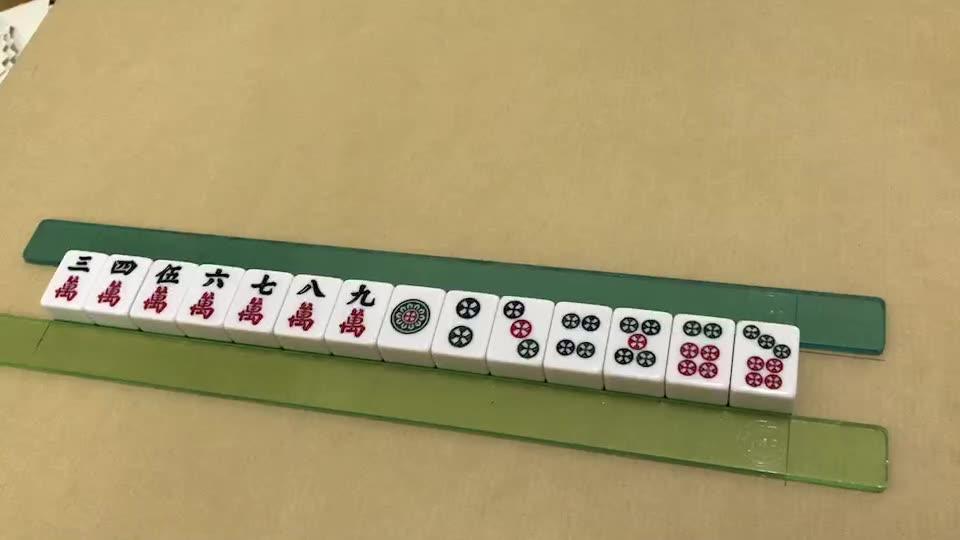1p: (392, 297, 433, 338)
2p: (448, 298, 482, 353)
3m: (43, 252, 97, 304)
3p: (503, 301, 540, 361)
4m: (98, 258, 139, 309)
4p: (556, 311, 600, 362)
5m: (147, 264, 182, 312)
5p: (610, 319, 661, 366)
6m: (191, 269, 229, 319)
6p: (676, 319, 722, 380)
7m: (239, 274, 278, 332)
7p: (739, 321, 791, 395)
8m: (285, 280, 327, 330)
9m: (338, 284, 376, 337)
